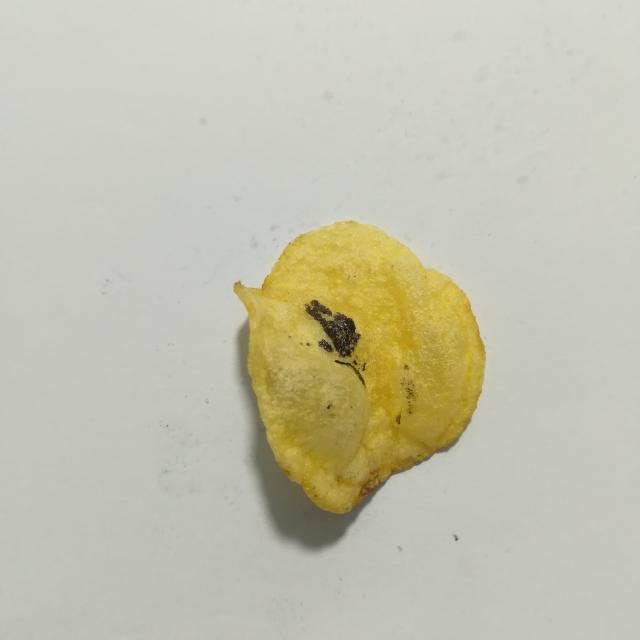chip: (234, 222, 485, 513)
damaged: (306, 300, 360, 357), (334, 360, 365, 386), (319, 339, 332, 352), (361, 362, 366, 372), (353, 360, 357, 365)
semi-damaged: (402, 377, 414, 414), (396, 411, 401, 424), (404, 364, 410, 370)
